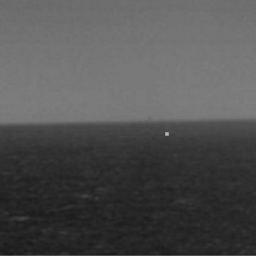Target: (163, 130, 170, 138)
